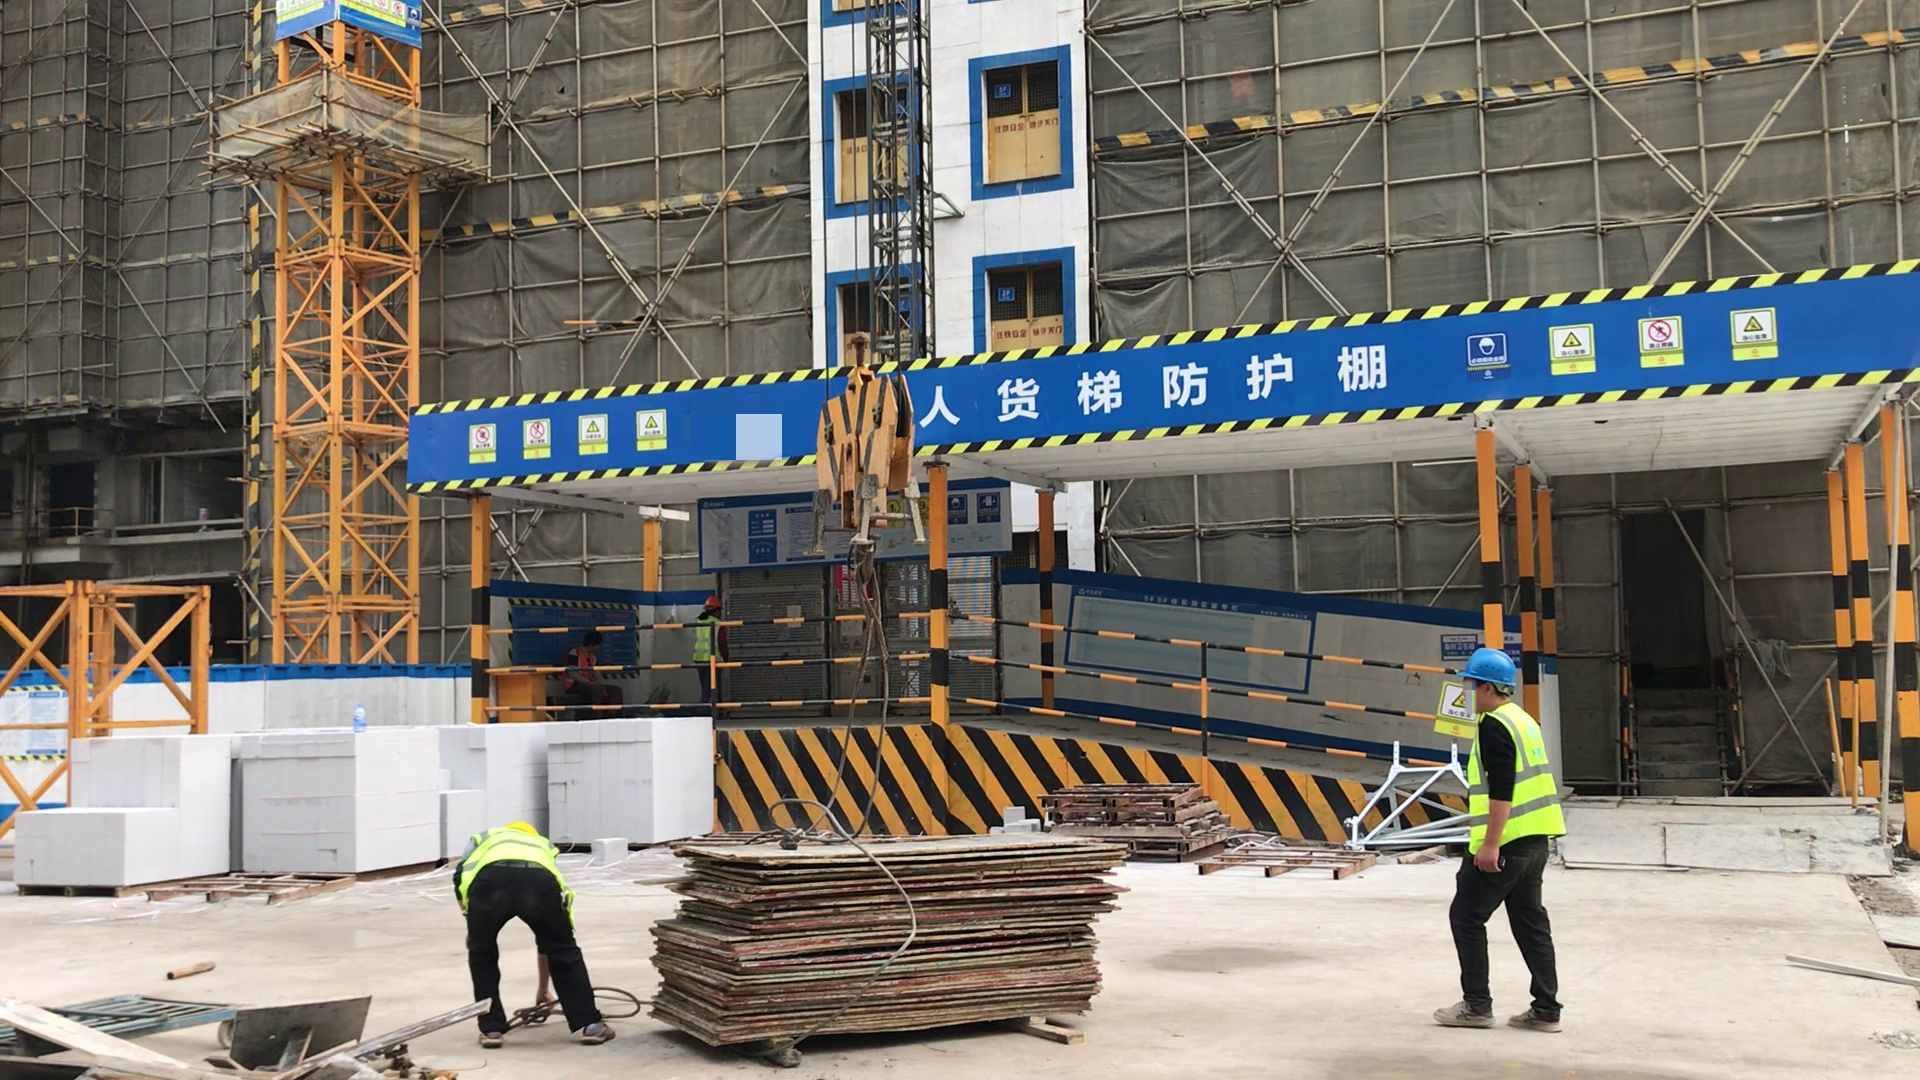board: (657, 836, 1122, 1041)
brick: (14, 732, 444, 887), (450, 721, 720, 842)
ebox: (489, 670, 546, 721)
handcart: (3, 991, 253, 1056)
helmet: (1460, 646, 1524, 684), (702, 596, 724, 612)
hook: (807, 333, 934, 609)
person: (1442, 648, 1570, 1037), (454, 818, 617, 1051), (564, 631, 626, 707), (694, 595, 728, 718)
slogan: (989, 341, 1406, 426), (1458, 308, 1782, 387), (461, 404, 671, 462), (276, 1, 428, 51)
vest: (1467, 710, 1566, 850), (460, 830, 578, 915), (694, 616, 723, 663), (568, 645, 598, 690)
